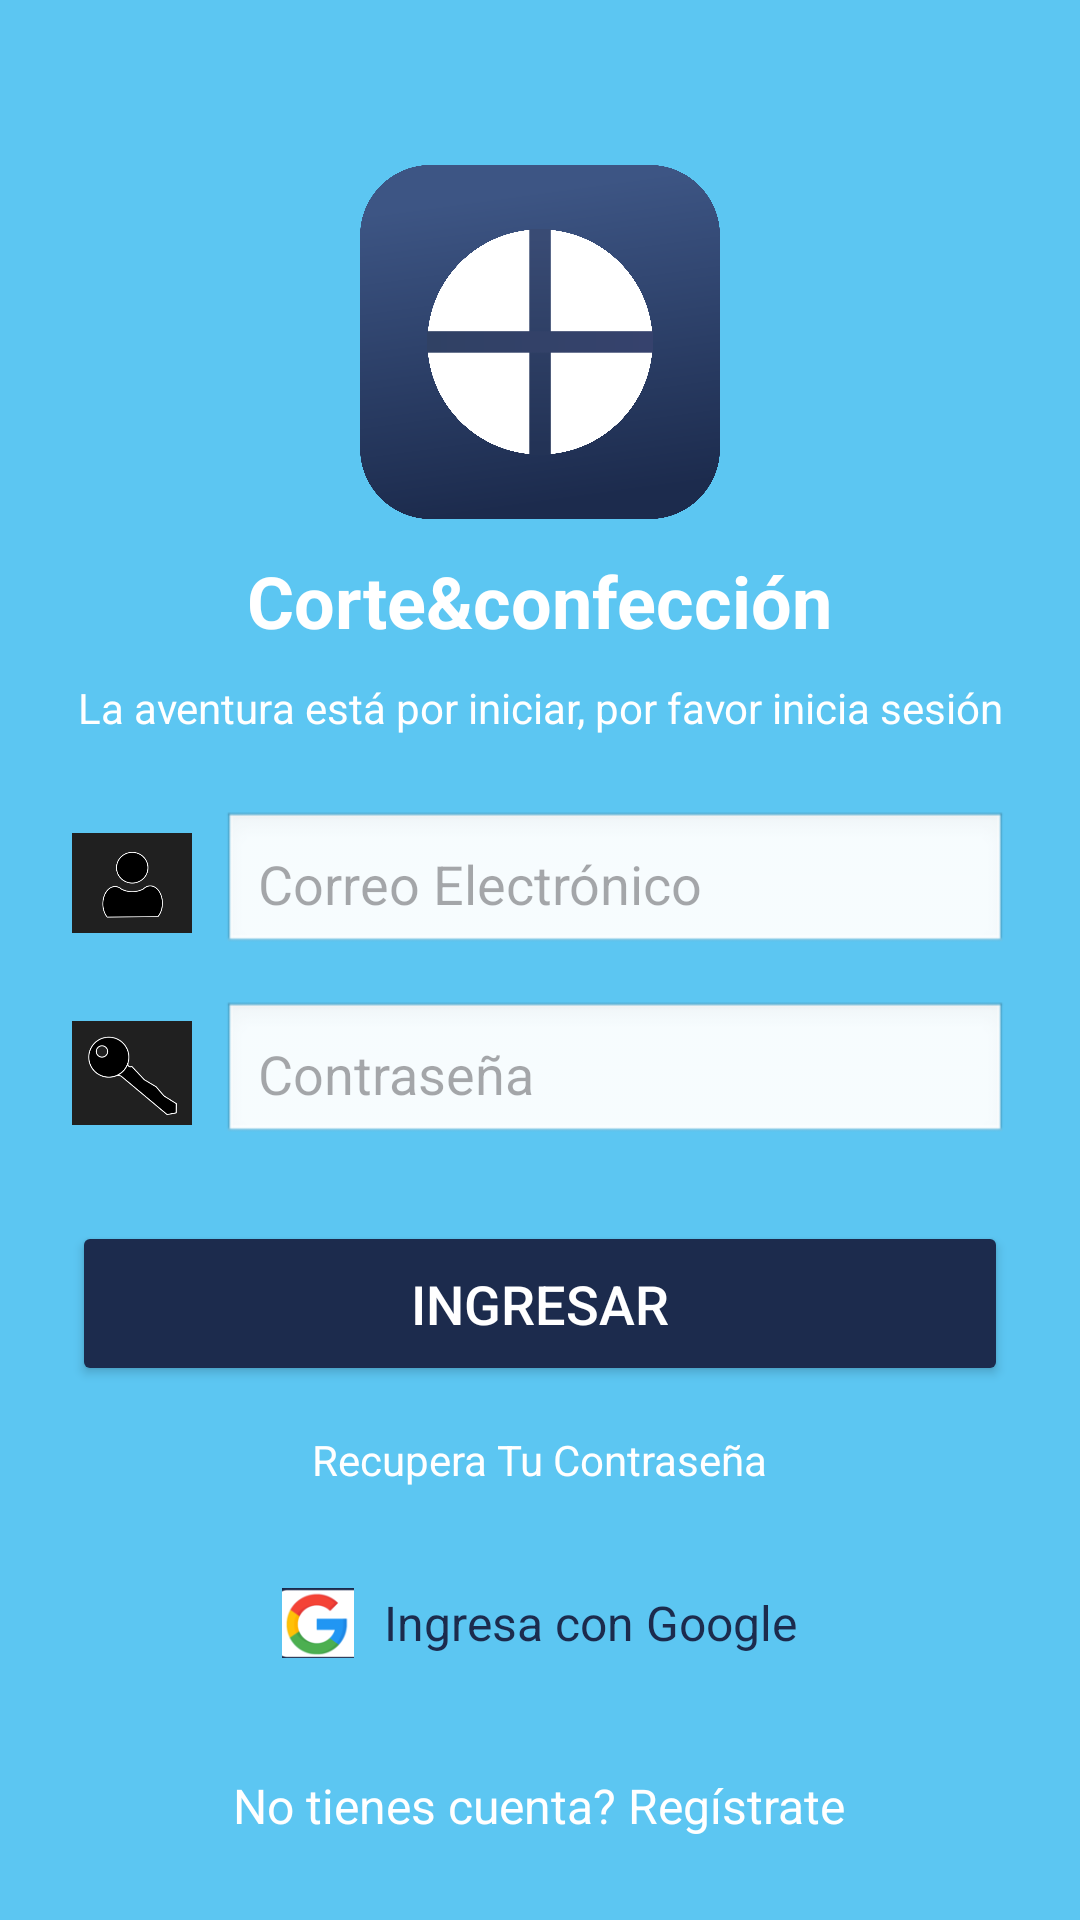

Icon bounding boxes for this 1080x1920 phone screenshot, format (x1, y1, x2, y2):
iconocuer: (72, 833, 192, 933)
iconopass: (72, 1021, 192, 1125)
